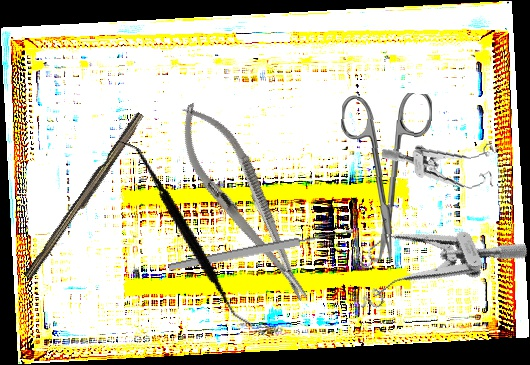Iris Scissors: (336, 90, 433, 264)
Needle Holder: (162, 92, 327, 314)
Scalpel Handle: (23, 109, 148, 284)
Spatula Surgical: (70, 139, 299, 327)
Speculum: (338, 185, 530, 325), (381, 135, 504, 200)
Surgical Spoon: (167, 226, 355, 273)
